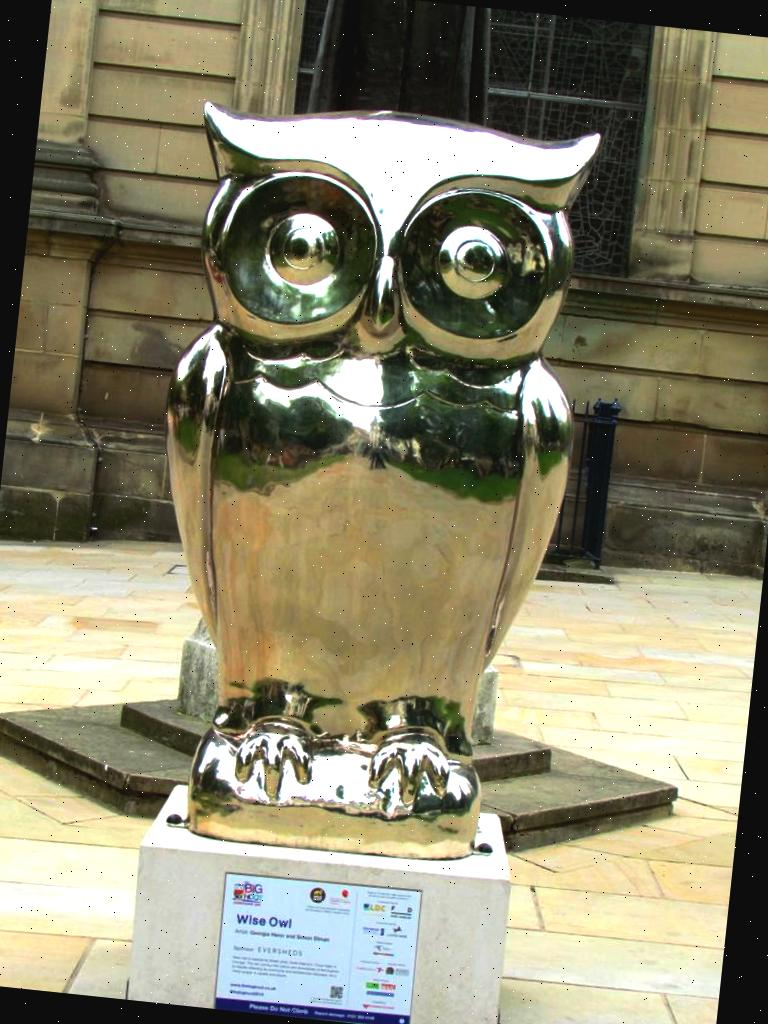Owl: (119, 89, 607, 816)
